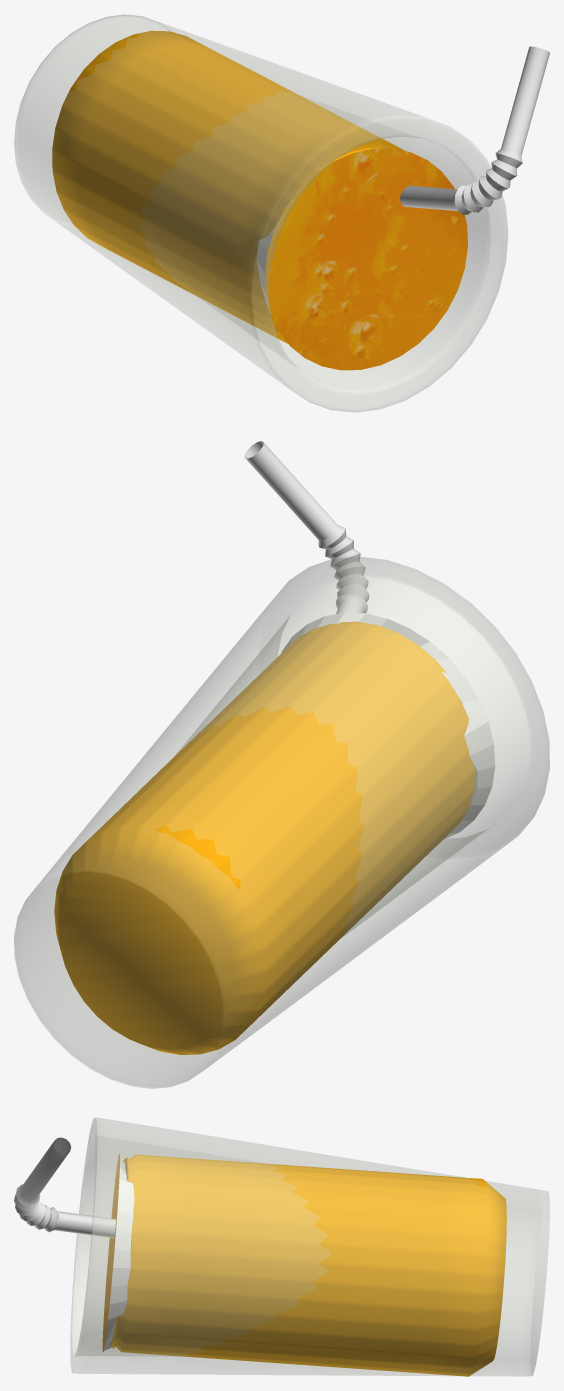
File: mango.glb
3 renders of one model, top to bottom at view 1: azimuth 30°, elevation 25°; view 2: azimuth 150°, elevation 25°; view 3: azimuth 270°, elevation 25°, orthographic. The views are drawn at different scales.
Parts seen in each view (by area): view 1: Vert.002, Cylinder, coffee.001, Vert.001; view 2: Vert.002, Cylinder, Vert.001, coffee.001; view 3: Vert.002, Cylinder, Vert.001, coffee.001.
Part boxes in pixels (x1,y1,x2,y2): Vert.002: [14, 14, 507, 412]; Cylinder: [52, 30, 404, 343]; coffee.001: [256, 148, 467, 370]; Vert.001: [400, 46, 549, 214]; Vert.002: [14, 556, 549, 1088]; Cylinder: [54, 621, 474, 1054]; Vert.001: [244, 441, 369, 613]; coffee.001: [281, 612, 495, 839]; Vert.002: [70, 1117, 549, 1376]; Cylinder: [110, 1154, 506, 1376]; Vert.001: [14, 1137, 115, 1237]; coffee.001: [102, 1153, 134, 1351].
Size of the model in its own units: 12.15 by 13.9 by 22.92.
Materials: 5 (1 with a texture image).
